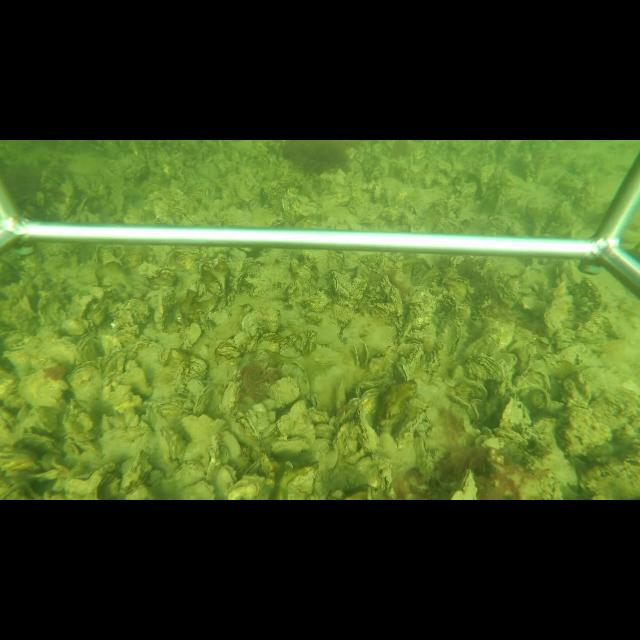Oyster-Closed: (275, 398, 318, 445), (62, 462, 112, 496), (355, 388, 380, 451), (434, 318, 464, 370), (225, 249, 249, 305), (160, 459, 204, 489), (66, 361, 101, 393), (268, 375, 299, 409), (464, 354, 503, 381), (382, 274, 403, 321), (448, 468, 479, 499), (270, 436, 310, 460), (13, 432, 56, 454), (122, 450, 146, 489), (220, 378, 241, 414), (180, 321, 203, 350), (192, 385, 213, 416), (328, 272, 354, 297), (395, 362, 410, 382)
Oyster-Open: (352, 343, 371, 369)
